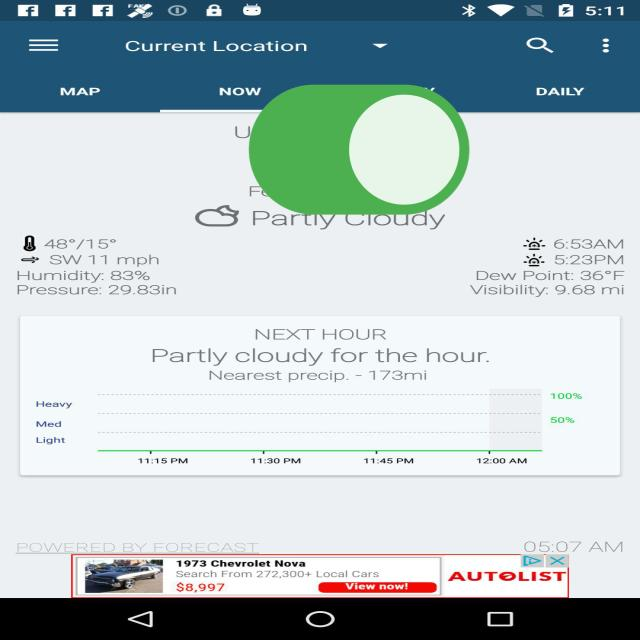social proof: (239, 34, 479, 274)
